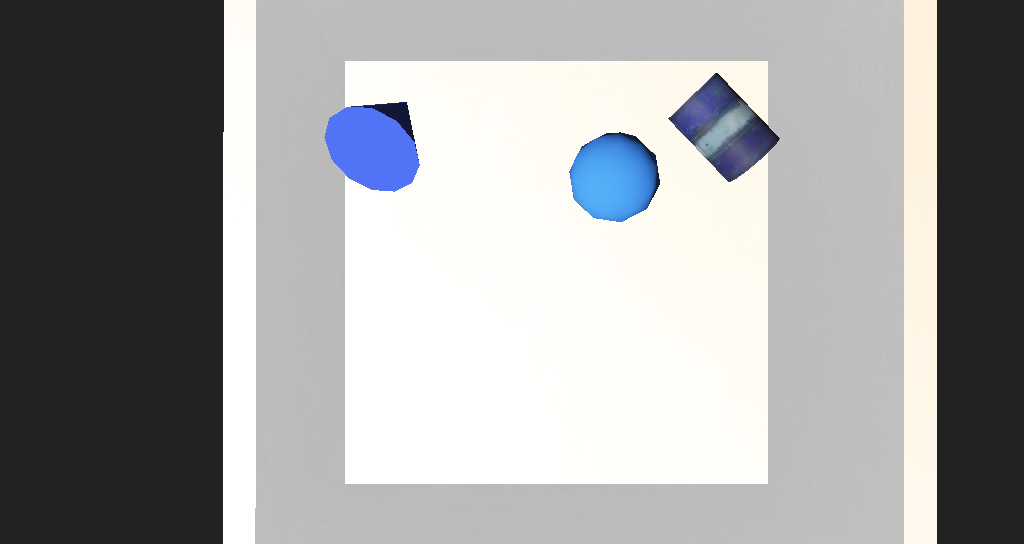cone: (583, 167, 670, 224)
cylinder: (330, 155, 438, 236)
sphere: (515, 203, 576, 246)
